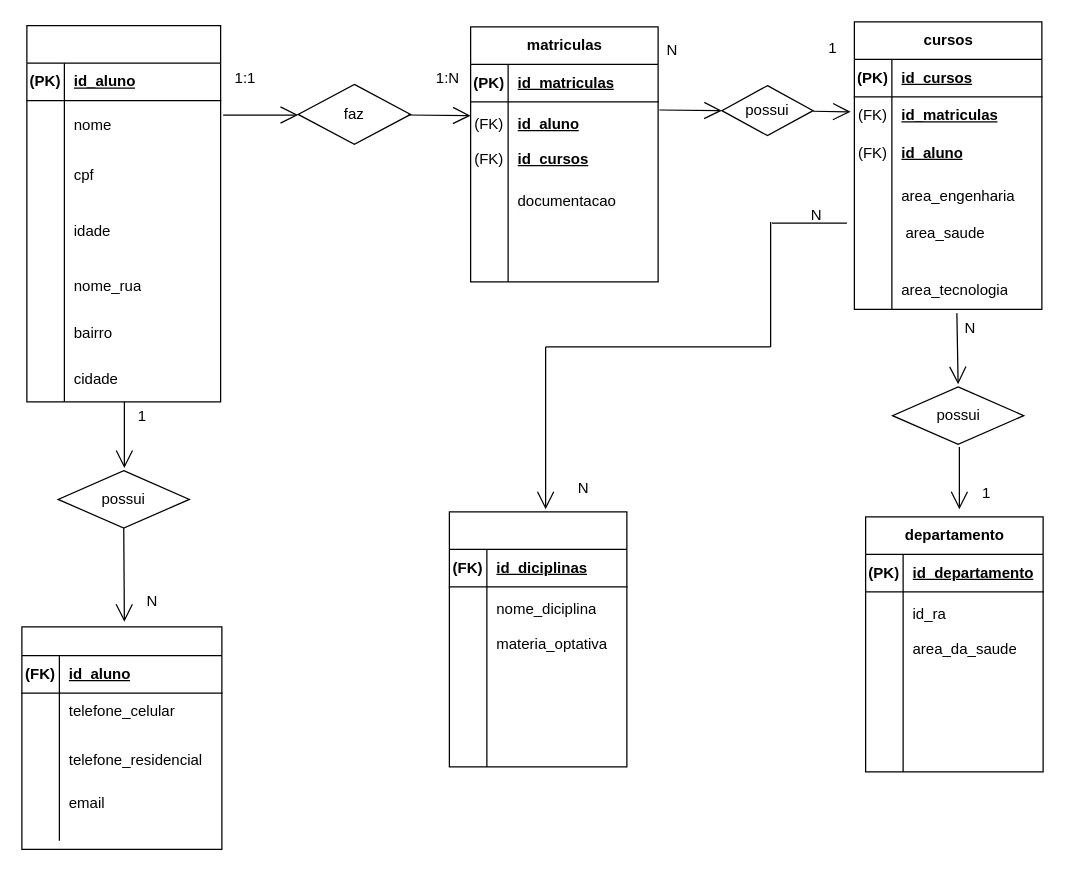
This 1065x871 diagram has some shape labels left out. Here are the shapes that lost their labels. From the top down, the box of each, then its label:
(26, 24, 221, 402): alunos
(448, 511, 627, 767): disciplinas
(21, 626, 222, 849): contato
